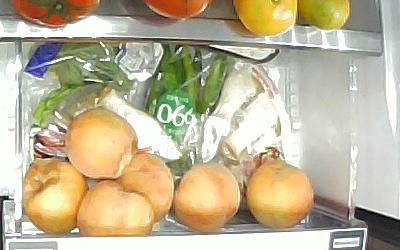peach: (64, 104, 140, 182), (245, 154, 316, 229), (23, 158, 88, 236), (176, 162, 241, 233), (76, 178, 154, 237), (116, 152, 174, 221)
